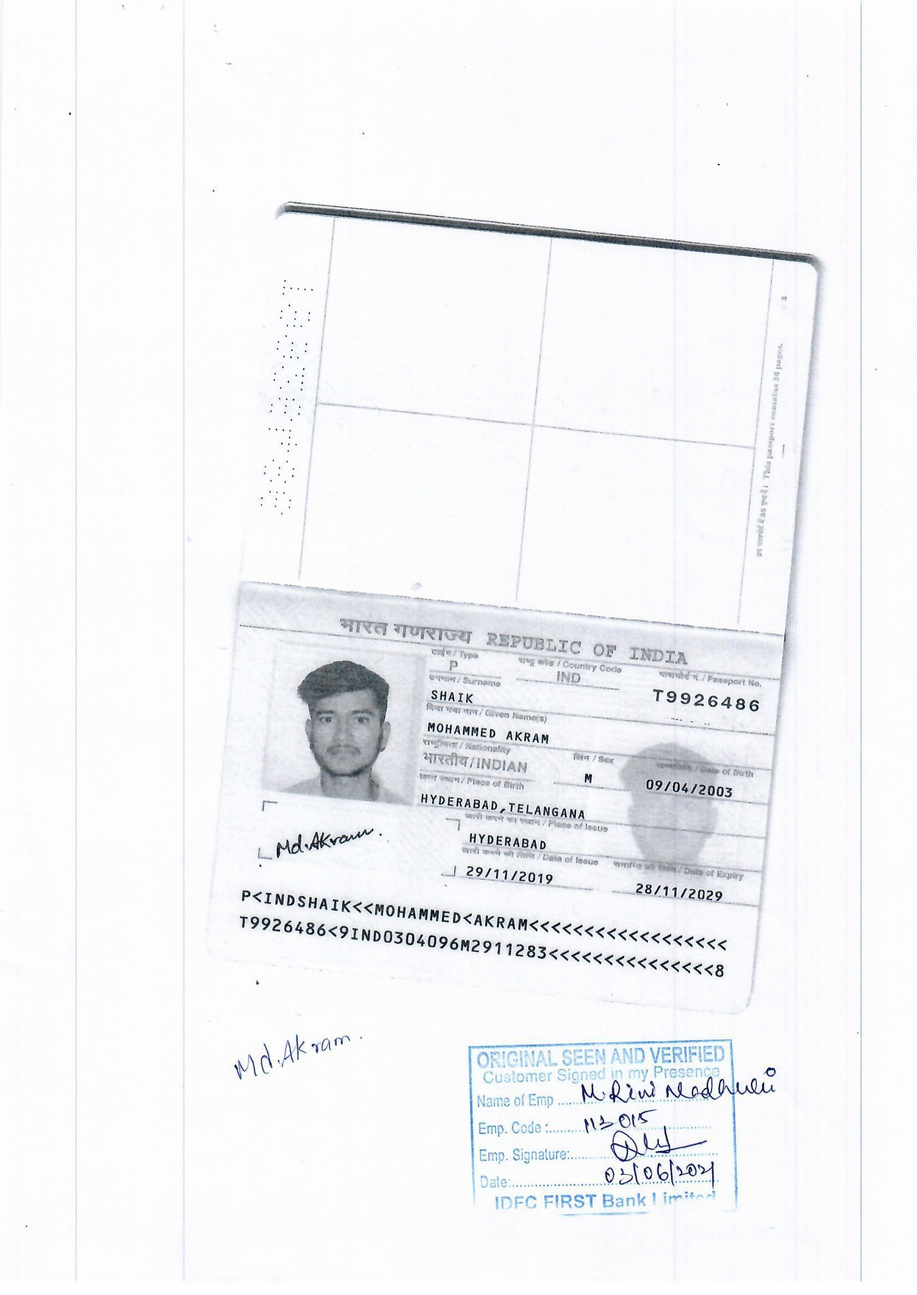DOB: (631, 775, 748, 802)
Surname: (423, 683, 480, 708)
country_code: (550, 665, 586, 689)
date_of_expiry: (616, 874, 733, 906)
details: (216, 881, 740, 996)
name: (420, 718, 563, 746)
nationality: (415, 751, 534, 777)
passport_no: (642, 683, 764, 715)
photo: (277, 651, 402, 784)
place_of_birth: (414, 790, 594, 822)
place_of_issue: (467, 827, 557, 856)
sex: (571, 762, 608, 791)
sign: (274, 814, 383, 871)
type: (436, 656, 471, 679)
